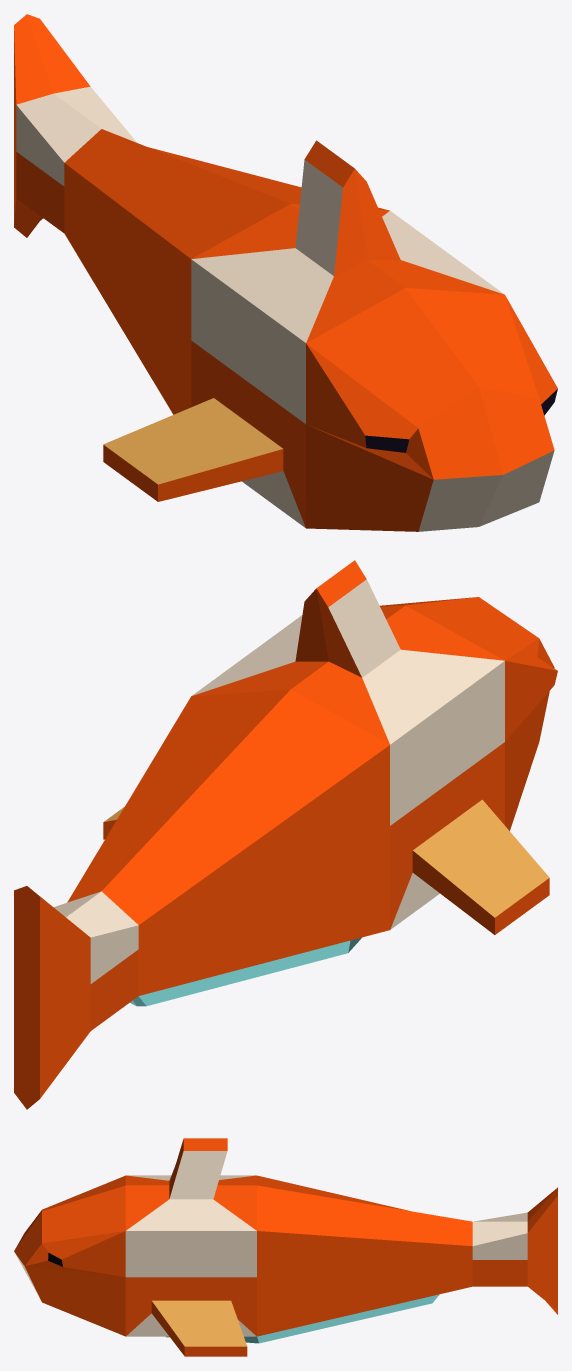
Rendered from fish.fbx.
3 renders of one model, top to bottom at view 1: azimuth 30°, elevation 25°; view 2: azimuth 150°, elevation 25°; view 3: azimuth 270°, elevation 25°, orthographic. The views are drawn at different scales.
Visible parts, largest first — view 1: Cube; view 2: Cube; view 3: Cube.
Boxes of the visible parts, x1,y1,x2,y2 form: Cube: (14, 14, 557, 531); Cube: (14, 560, 557, 1109); Cube: (14, 1138, 557, 1356).
Bounding box in the file's own units: 394 × 324 × 830.
